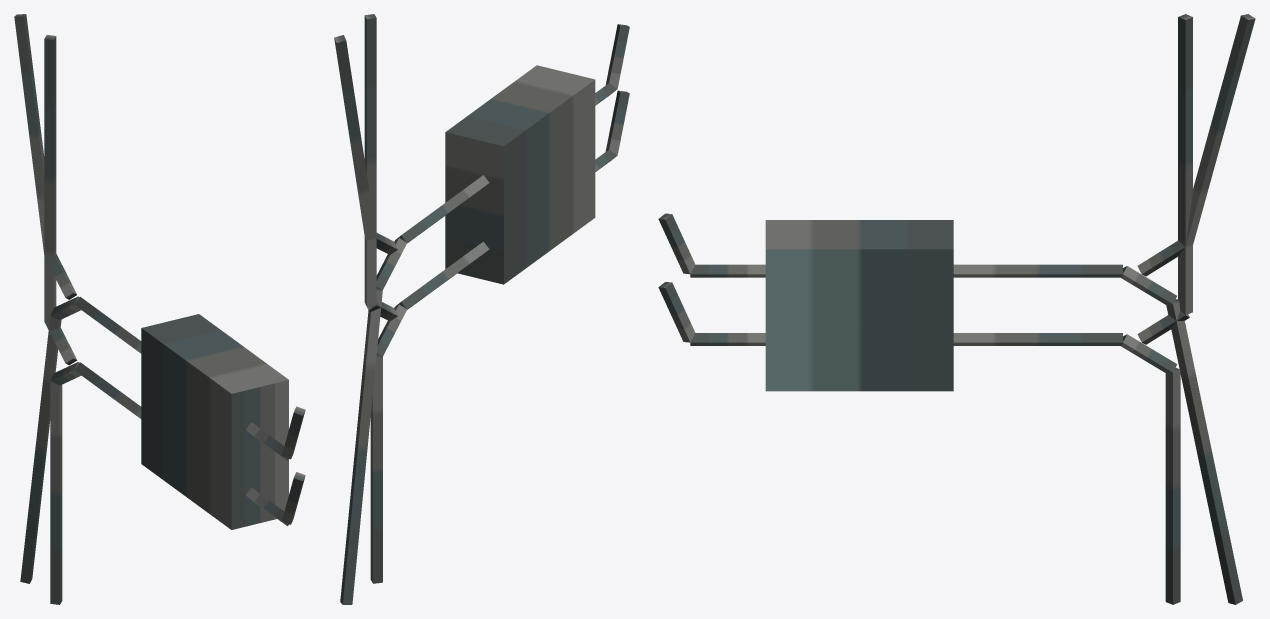
Rendered from pz_native_electrical_183.obj.
3 renders of one model, left to right at view 1: azimuth 30°, elevation 25°; view 2: azimuth 150°, elevation 25°; view 3: azimuth 270°, elevation 25°, orthographic. The views are drawn at different scales.
Visible parts, largest first — view 1: panel_case, conduit; view 2: panel_case, conduit; view 3: panel_case, conduit.
Part boxes in pixels (<box>): panel_case: <box>141,314,288,529</box>; conduit: <box>14,14,305,604</box>; panel_case: <box>445,65,595,284</box>; conduit: <box>334,16,629,604</box>; panel_case: <box>765,220,953,391</box>; conduit: <box>658,15,1255,604</box>.
Bounding box in the file's own units: 0.0985 × 0.9212 × 0.8486.
Materials: 1 (1 with a texture image).
